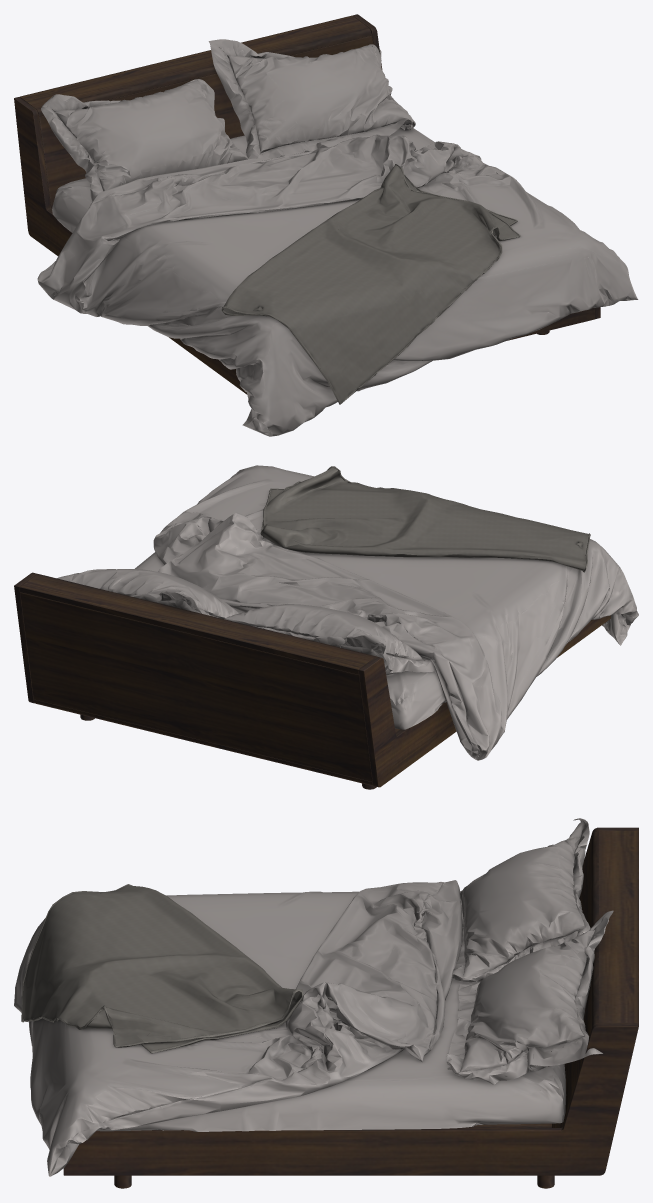
Rendered from raw_model.obj.
The picture shows the model from 3 angles, top to bottom: view 1: azimuth 30°, elevation 25°; view 2: azimuth 150°, elevation 25°; view 3: azimuth 270°, elevation 25°; orthographic projection. The views are drawn at different scales.
Parts seen in each view (by area): view 1: solid_003, solid_001, solid_002; view 2: solid_003, solid_002, solid_001; view 3: solid_003, solid_002, solid_001.
Boxes of the visible parts, box(x1,y1,x2,y2) form: solid_003: box(37, 39, 638, 436); solid_001: box(221, 164, 520, 404); solid_002: box(14, 14, 600, 394); solid_003: box(57, 465, 638, 760); solid_002: box(14, 572, 610, 789); solid_001: box(260, 466, 590, 572); solid_003: box(14, 818, 613, 1176); solid_002: box(63, 827, 638, 1188); solid_001: box(21, 884, 303, 1053).
Bounding box in the file's own units: 2.34 × 0.8984 × 2.52.
1 material, 1 textured.
